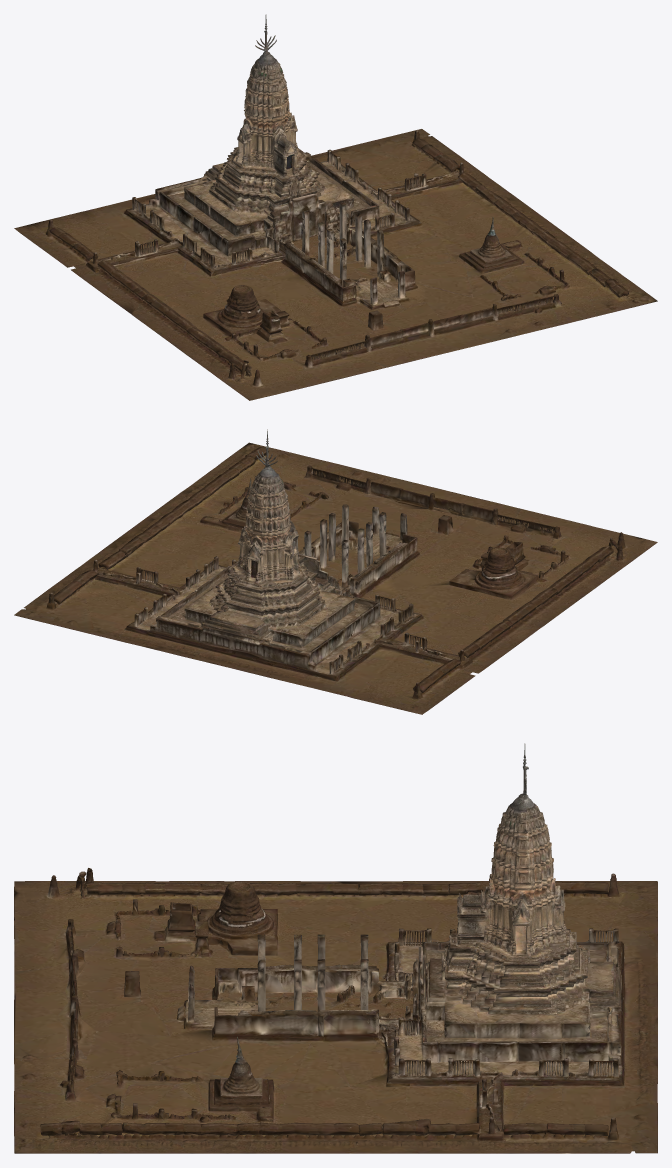
Rendered from mahathat.glb.
3 views of the same model, one above another, from view 1: azimuth 30°, elevation 25°; view 2: azimuth 150°, elevation 25°; view 3: azimuth 270°, elevation 25° (orthographic). The views are drawn at different scales.
Bounding box in the file's own units: 1.9 × 0.8941 × 1.9.
1 material, 1 textured.
